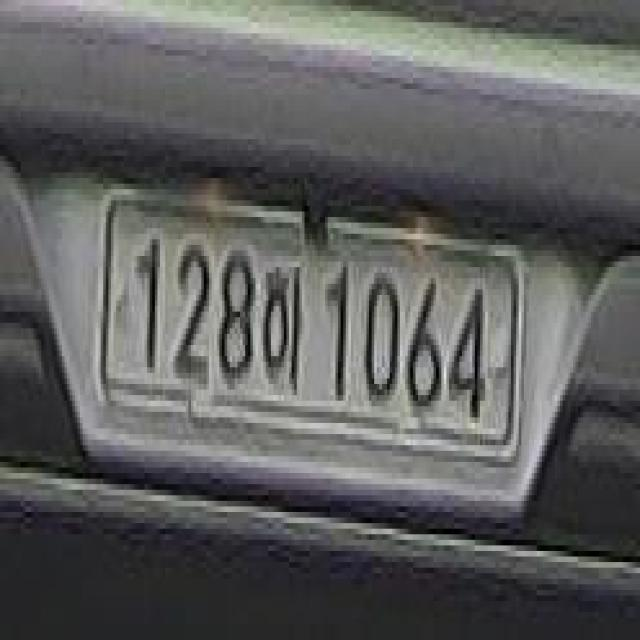illegal_plate: (95, 188, 531, 480)
